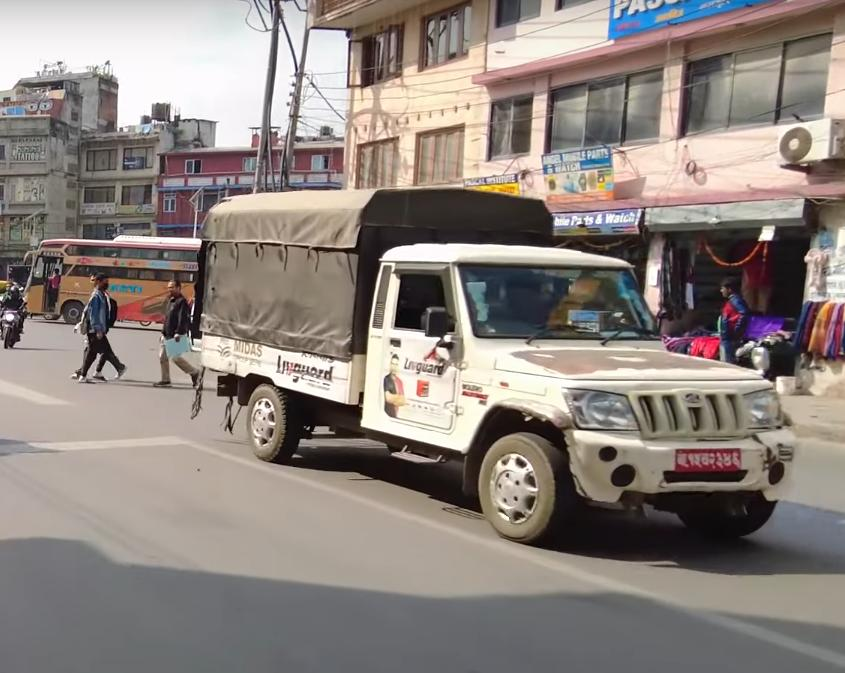bike: (0, 269, 30, 357)
bus: (23, 225, 213, 340)
transport_vehicle: (183, 177, 806, 575)
